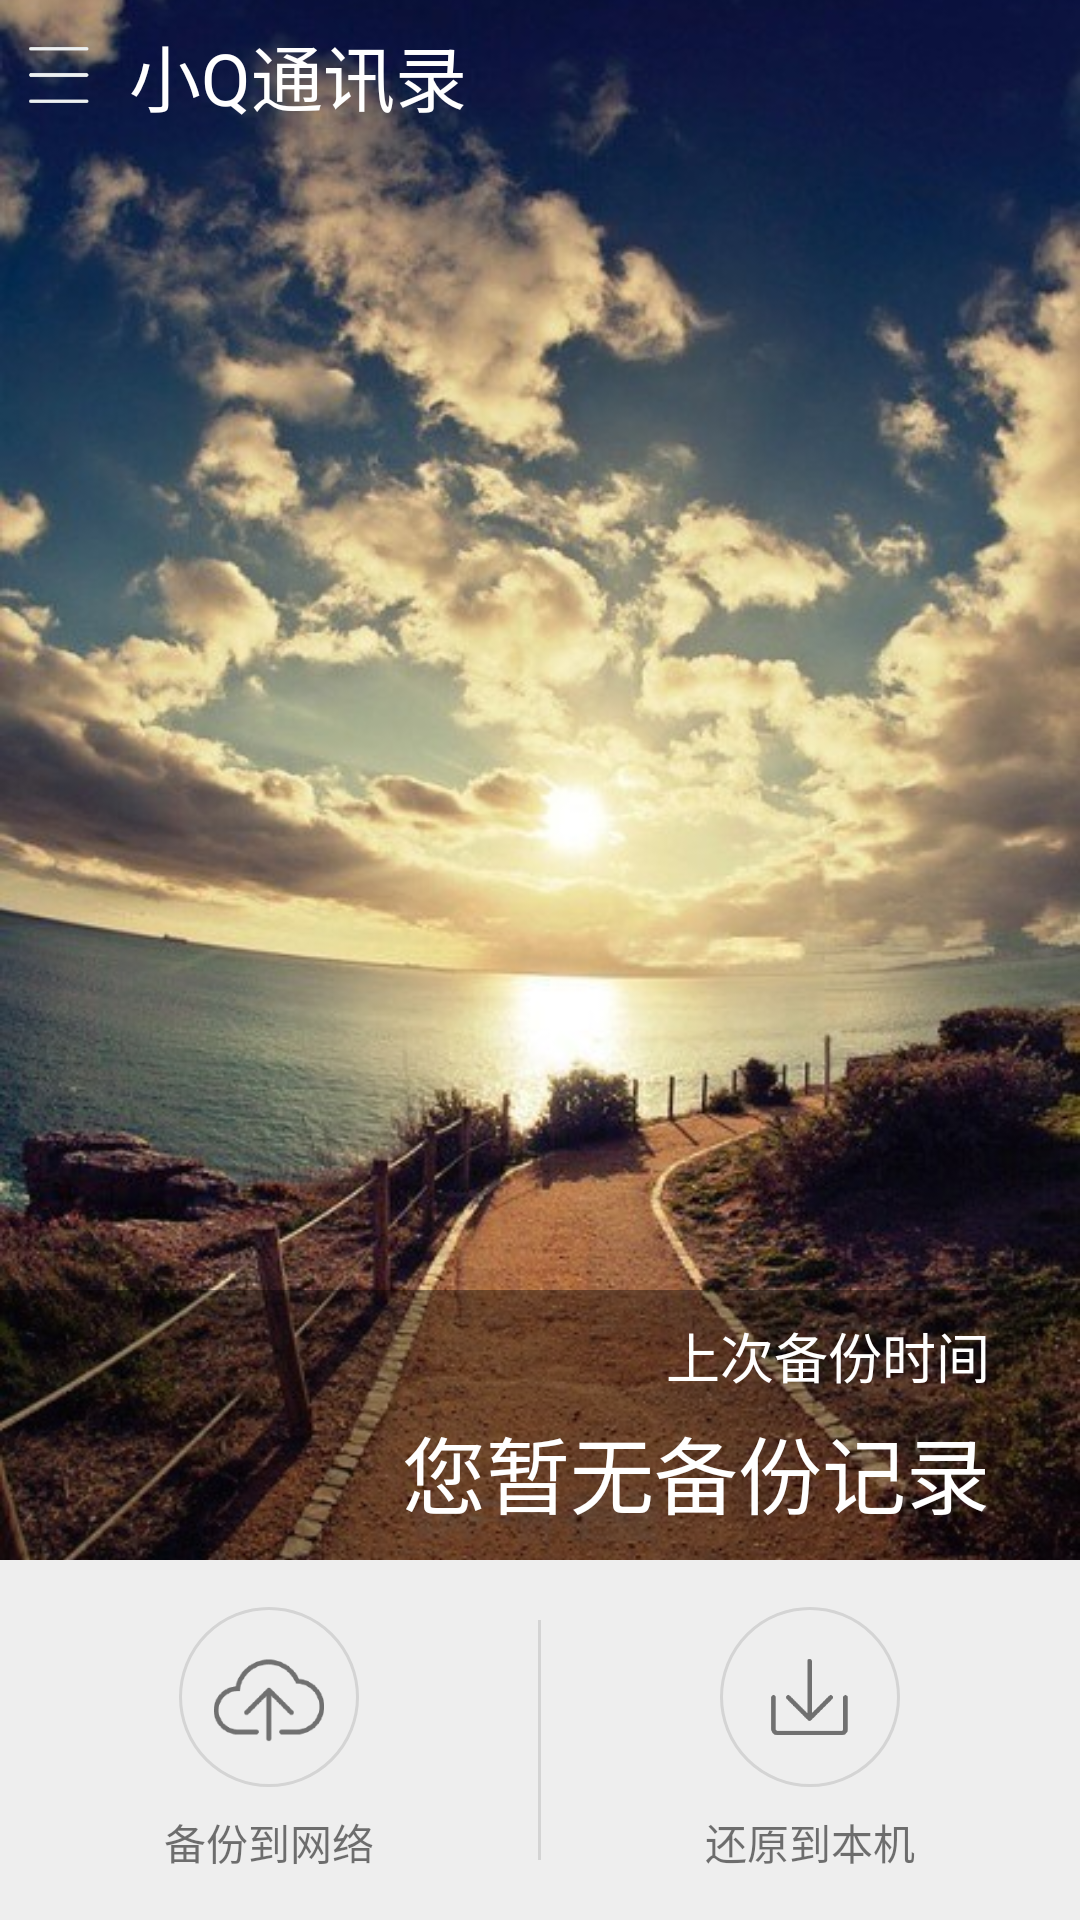

Icons on this 1080 × 1920 Android screen, each with the point to tap as (x=x, y=y):
menu: (x=57, y=68)
